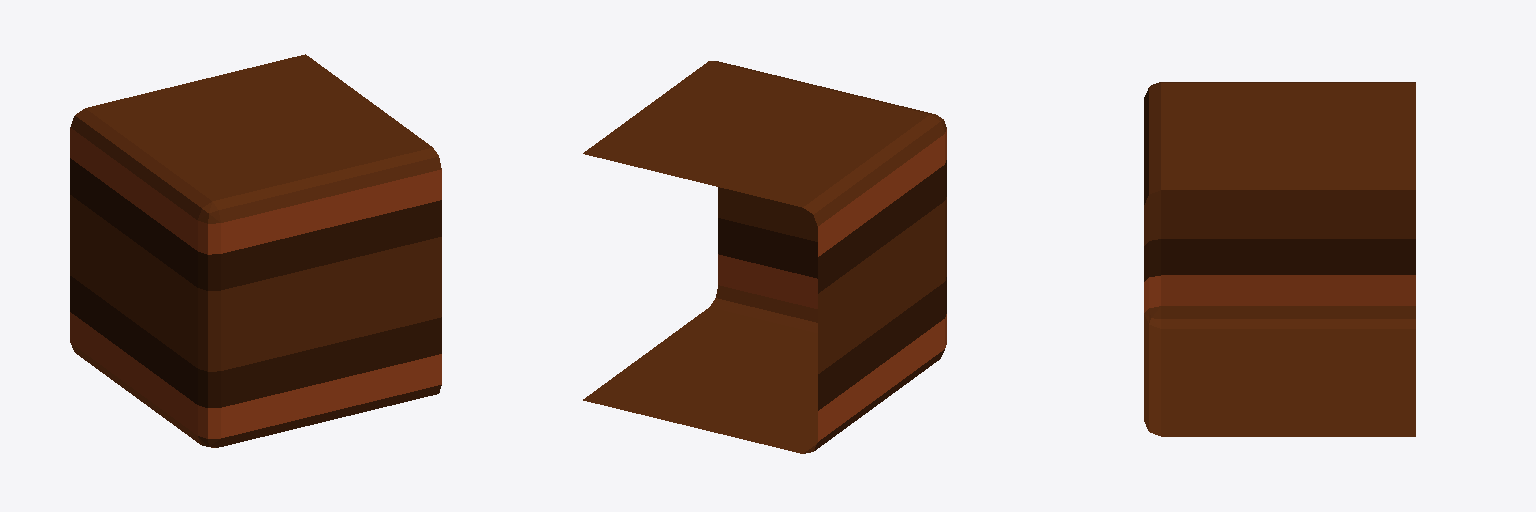
File: Cube_Dirt_Corner.obj
3 renders of one model, left to right at view 1: azimuth 30°, elevation 25°; view 2: azimuth 150°, elevation 25°; view 3: azimuth 270°, elevation 25°, orthographic.
Parts seen in each view (by area): view 1: Cube_Dirt_Corner_Cube.310; view 2: Cube_Dirt_Corner_Cube.310; view 3: Cube_Dirt_Corner_Cube.310.
Part boxes in pixels (left/top/right/bottom): Cube_Dirt_Corner_Cube.310: left=70, top=54, right=441, bottom=447; Cube_Dirt_Corner_Cube.310: left=583, top=61, right=946, bottom=453; Cube_Dirt_Corner_Cube.310: left=1144, top=82, right=1415, bottom=436.
Bounding box in the file's own units: 2 × 2 × 2.